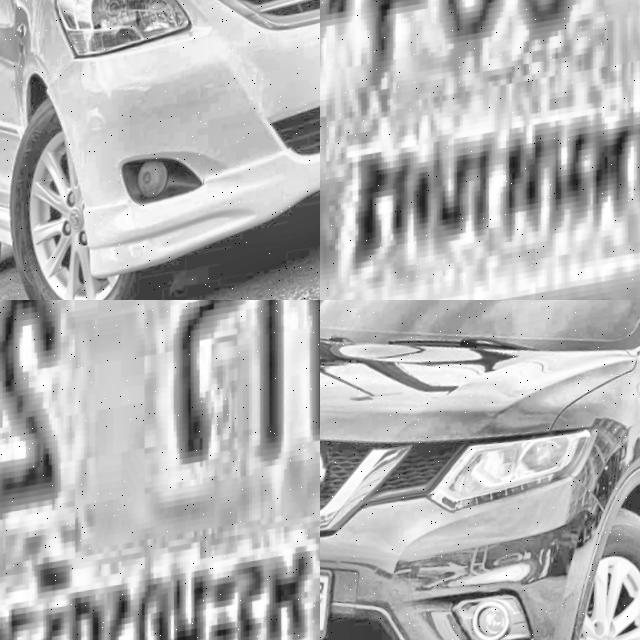license-plate: (0, 300, 320, 640), (320, 0, 640, 300), (320, 546, 353, 640)
